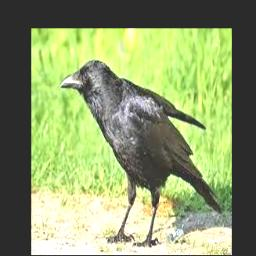Crow: (57, 59, 222, 248)
